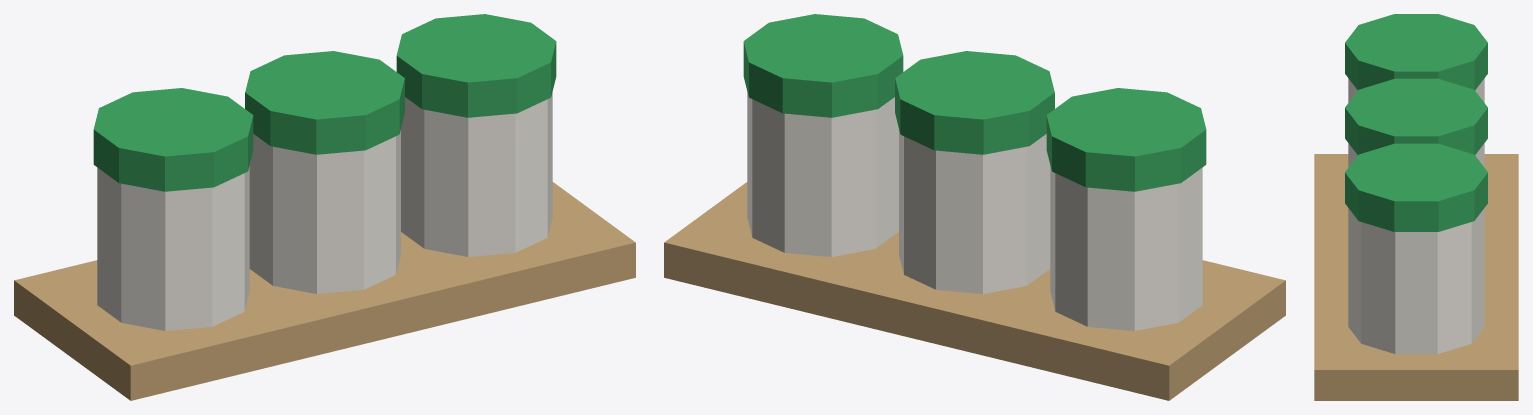
File: cream_jars.glb
3 renders of one model, left to right at view 1: azimuth 30°, elevation 25°; view 2: azimuth 150°, elevation 25°; view 3: azimuth 270°, elevation 25°, orthographic. The views are drawn at different scales.
Parts seen in each view (by area): view 1: jar_jar_white (×3), tray_jar_tray, lid_jar_green (×3); view 2: jar_jar_white (×3), tray_jar_tray, lid_jar_green (×3); view 3: lid_jar_green (×3), tray_jar_tray, jar_jar_white (×3).
Boxes of the visible parts, x1,y1,x2,y2 form: jar_jar_white (×3): (97, 92, 552, 330); tray_jar_tray: (14, 182, 635, 400); lid_jar_green (×3): (93, 14, 556, 191); jar_jar_white (×3): (747, 92, 1202, 330); tray_jar_tray: (664, 182, 1285, 400); lid_jar_green (×3): (743, 14, 1206, 191); lid_jar_green (×3): (1345, 14, 1487, 231); tray_jar_tray: (1314, 154, 1518, 400); jar_jar_white (×3): (1348, 78, 1484, 354).
Size of the model in its own units: 0.3 by 0.12 by 0.12.
